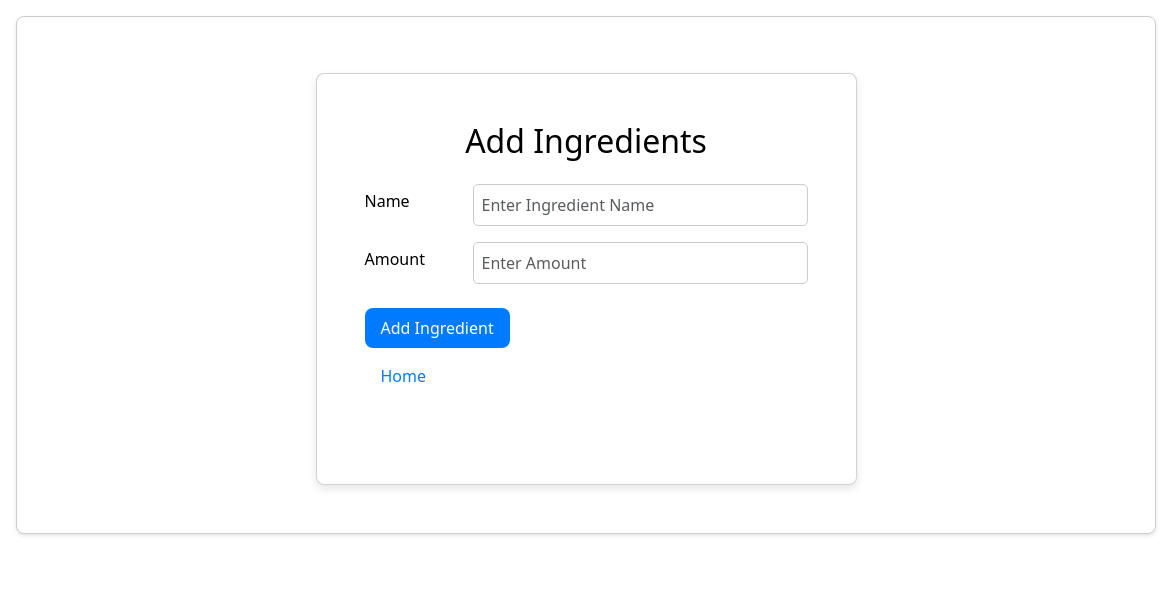
Test case: AddIngredientComponent › shows validation message when fields are empty
Click the button "Add Ingredient" at (437, 328), box [364,308,510,348]
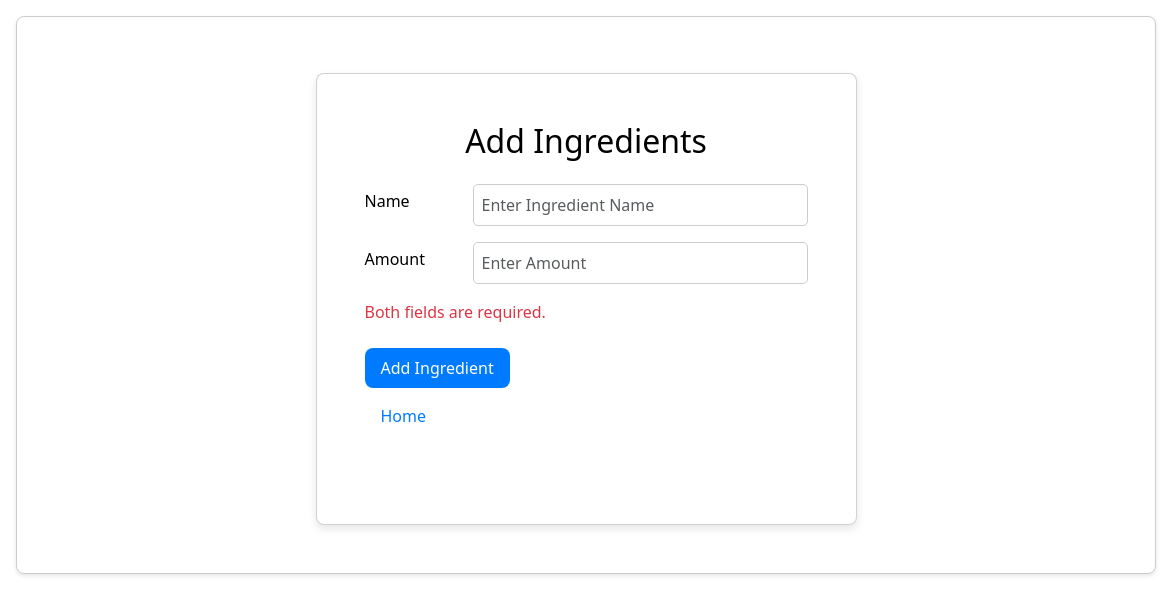
Result: the text "Both fields are required." is shown at [364,301,546,323]
